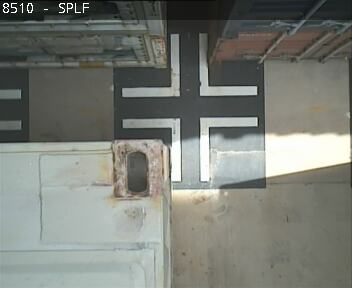groundmarker_1: (120, 116, 257, 179), (121, 33, 257, 95)
